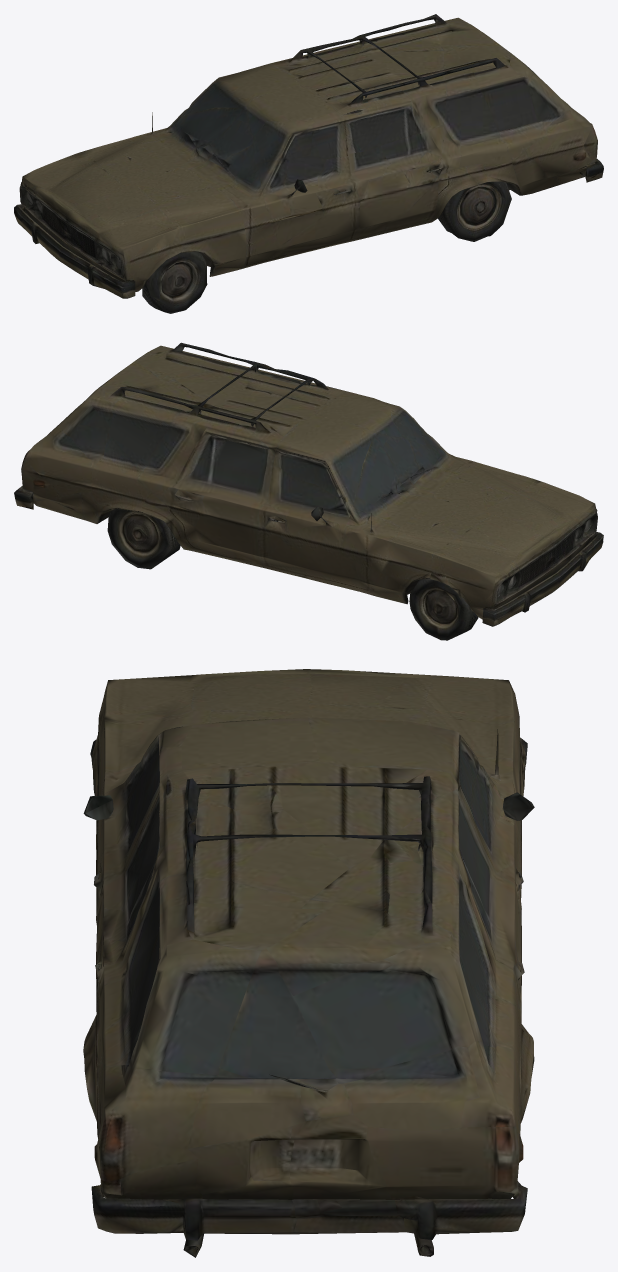
File: car_hatchback_light_q4.glb
3 renders of one model, top to bottom at view 1: azimuth 30°, elevation 25°; view 2: azimuth 150°, elevation 25°; view 3: azimuth 270°, elevation 25°, orthographic. The views are drawn at different scales.
Bounding box in the file's own units: 4.62 × 1.44 × 1.82.
1 material, 1 textured.
